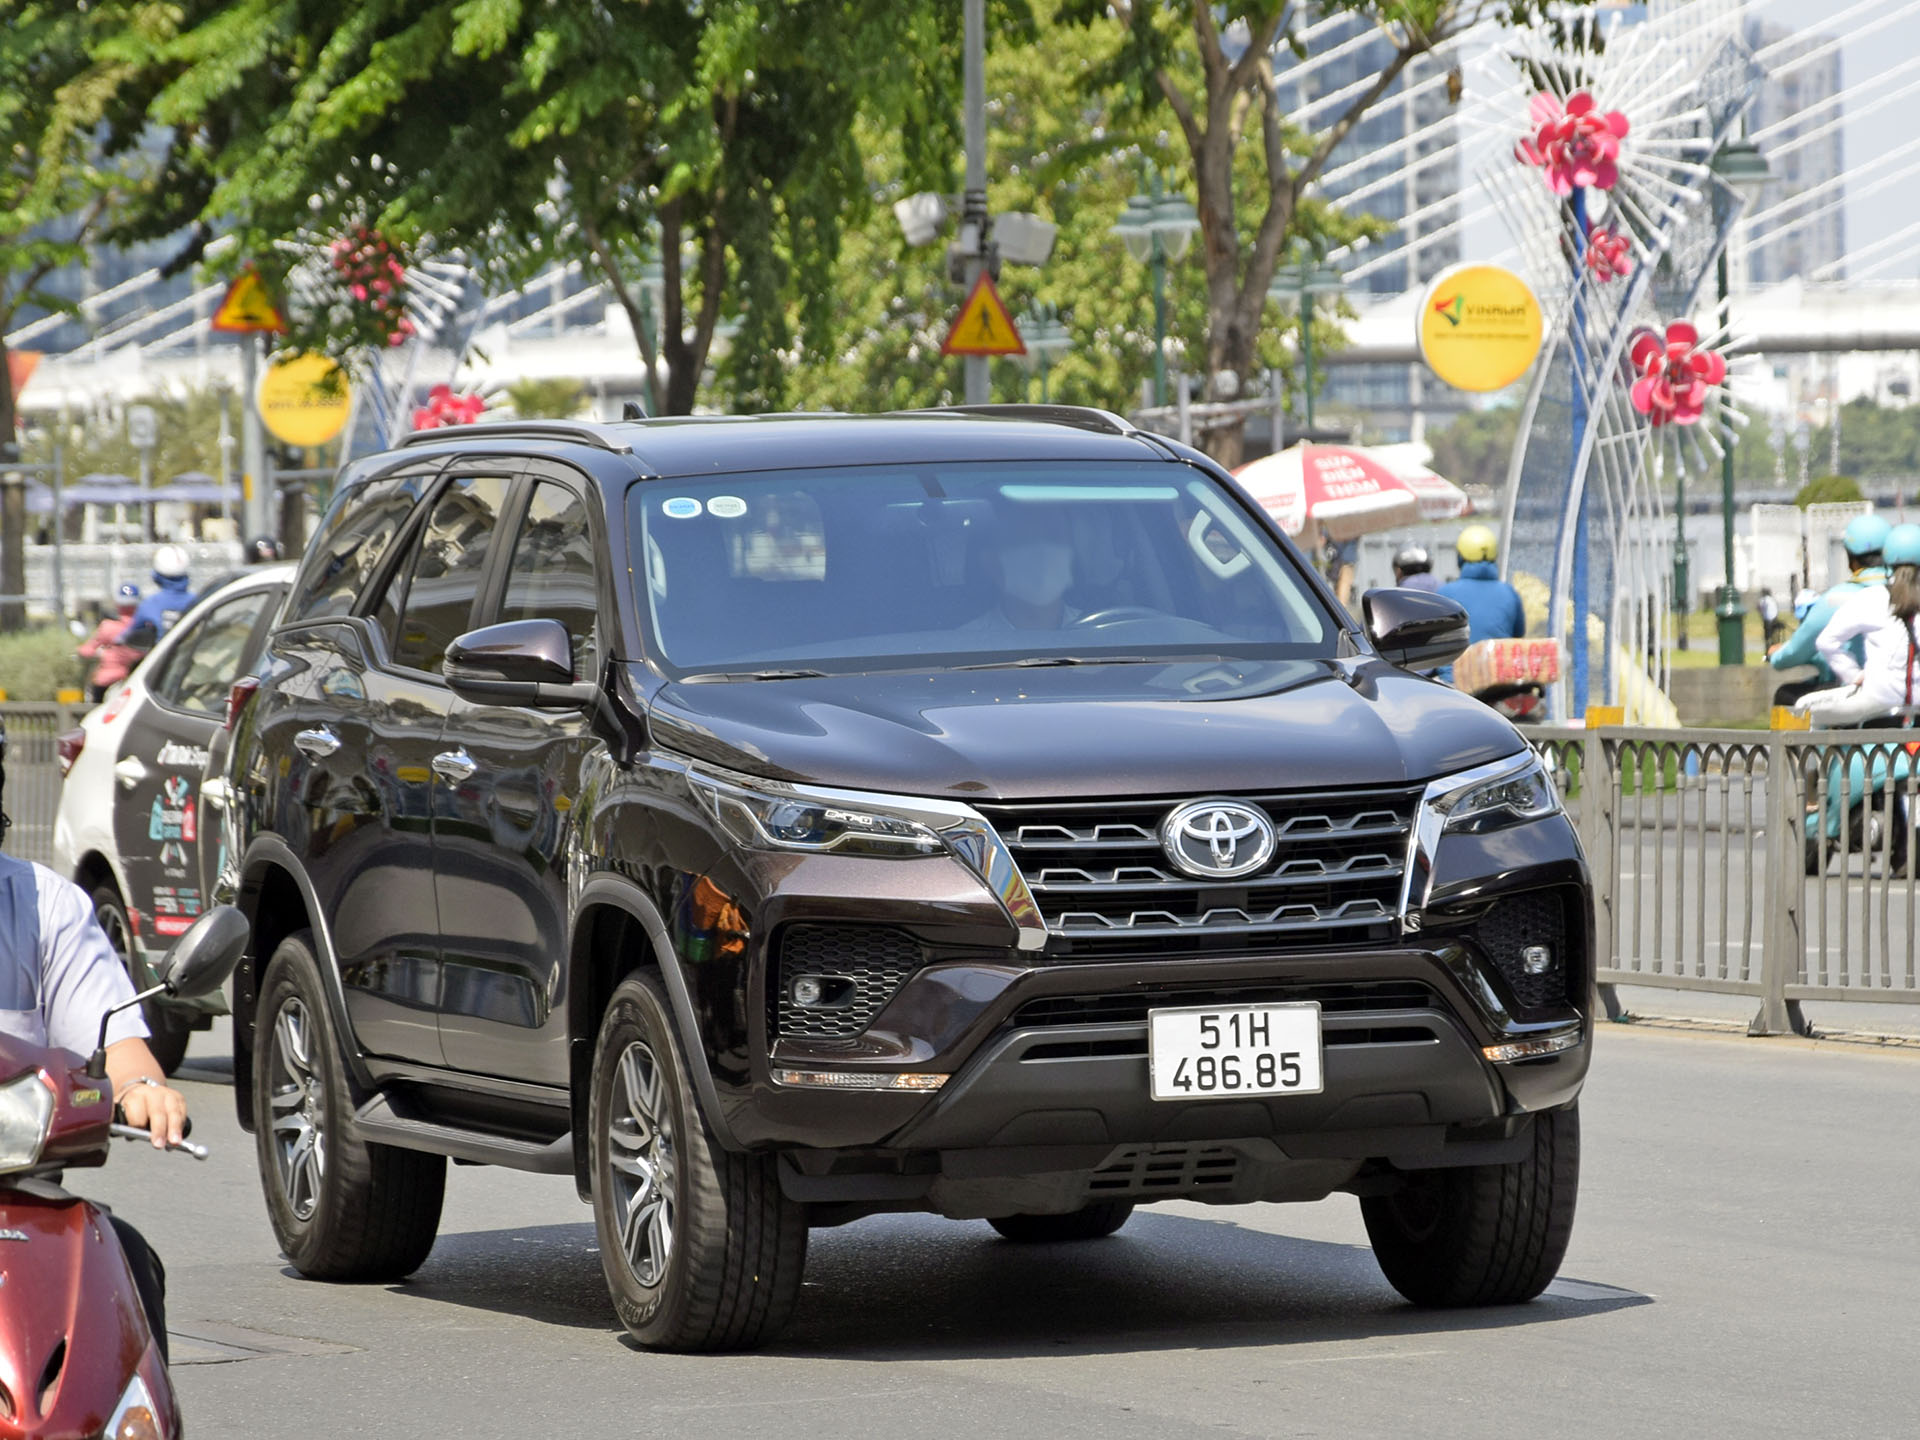bien_so: (1151, 1005, 1325, 1101)
